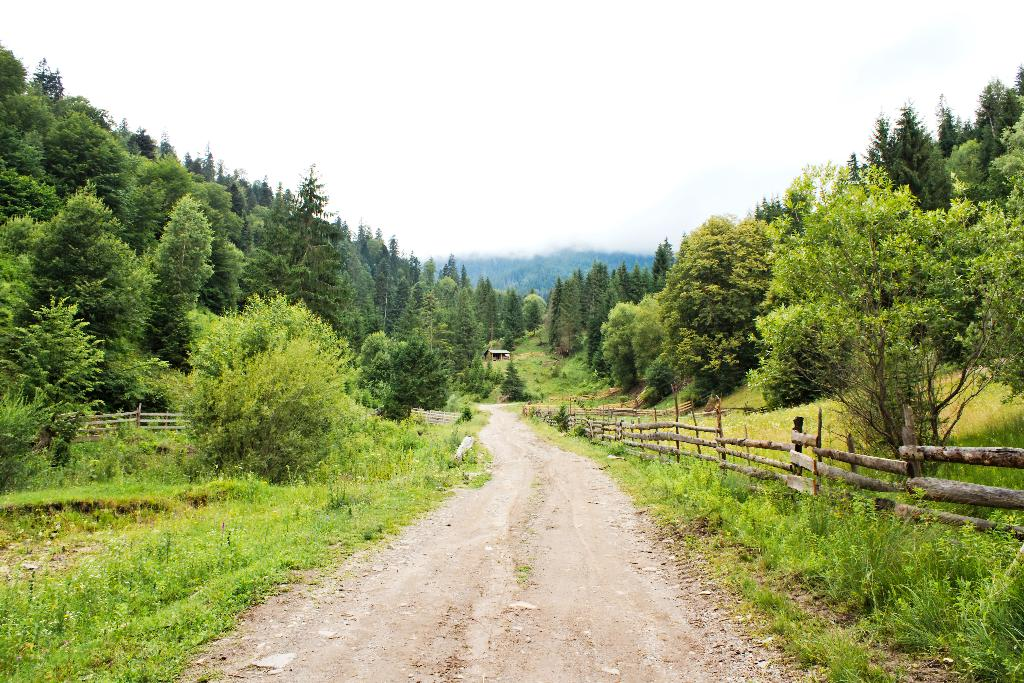Tree: (533, 52, 1023, 416), (0, 34, 544, 360), (741, 131, 995, 469), (204, 307, 368, 495), (0, 292, 108, 431), (967, 149, 1023, 402), (753, 303, 853, 425)
